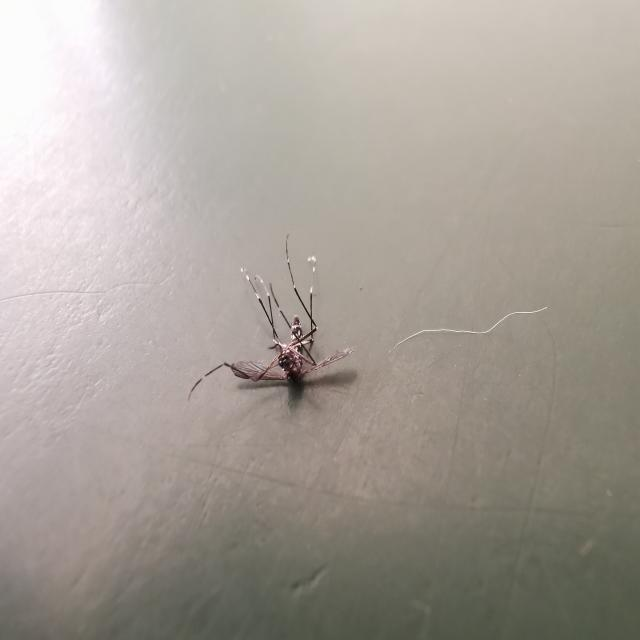albopictus: (196, 227, 362, 403)
